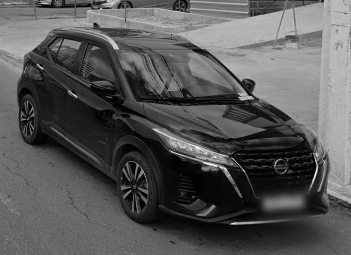car: (15, 25, 334, 235)
